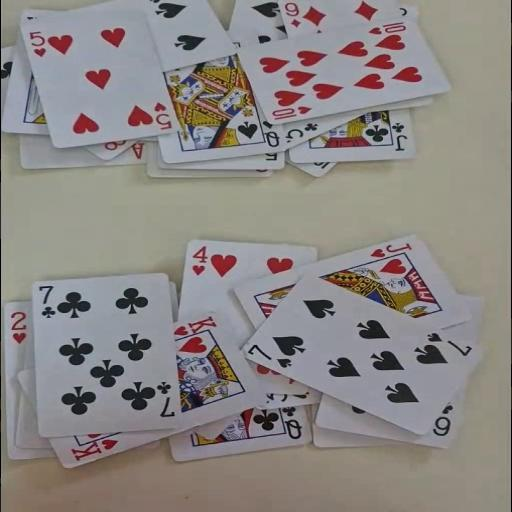10: (269, 104, 313, 121), (367, 20, 408, 36)
2: (8, 309, 29, 345)
4: (190, 244, 208, 277)
5: (283, 121, 319, 144), (151, 100, 173, 130), (26, 30, 48, 57)
6: (430, 402, 455, 436)
7: (424, 330, 473, 358), (244, 342, 294, 369), (154, 380, 177, 418), (36, 283, 58, 319)
9: (281, 0, 302, 28)
J: (367, 241, 414, 259), (390, 121, 408, 151)
K: (67, 436, 120, 462), (170, 314, 219, 337)
